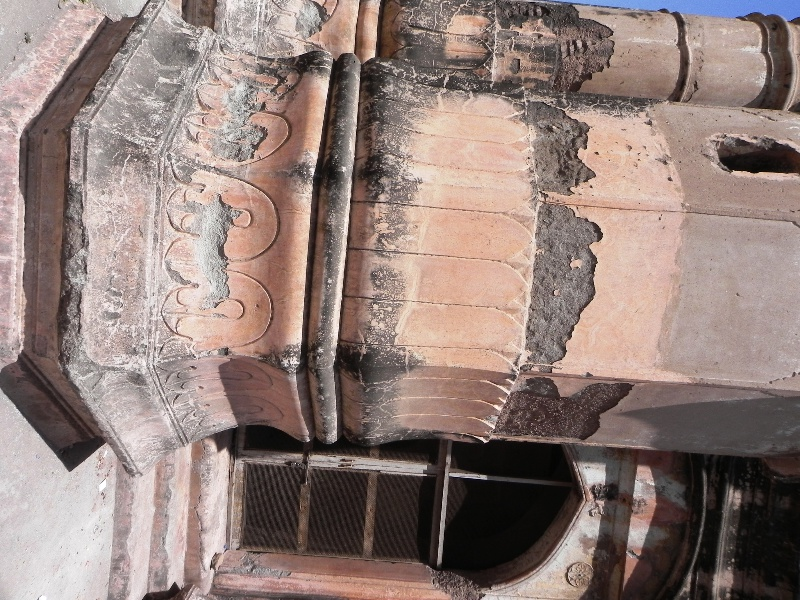Spalling: (526, 202, 600, 369), (505, 374, 628, 440), (527, 98, 597, 196), (210, 77, 271, 161), (201, 195, 234, 310)
